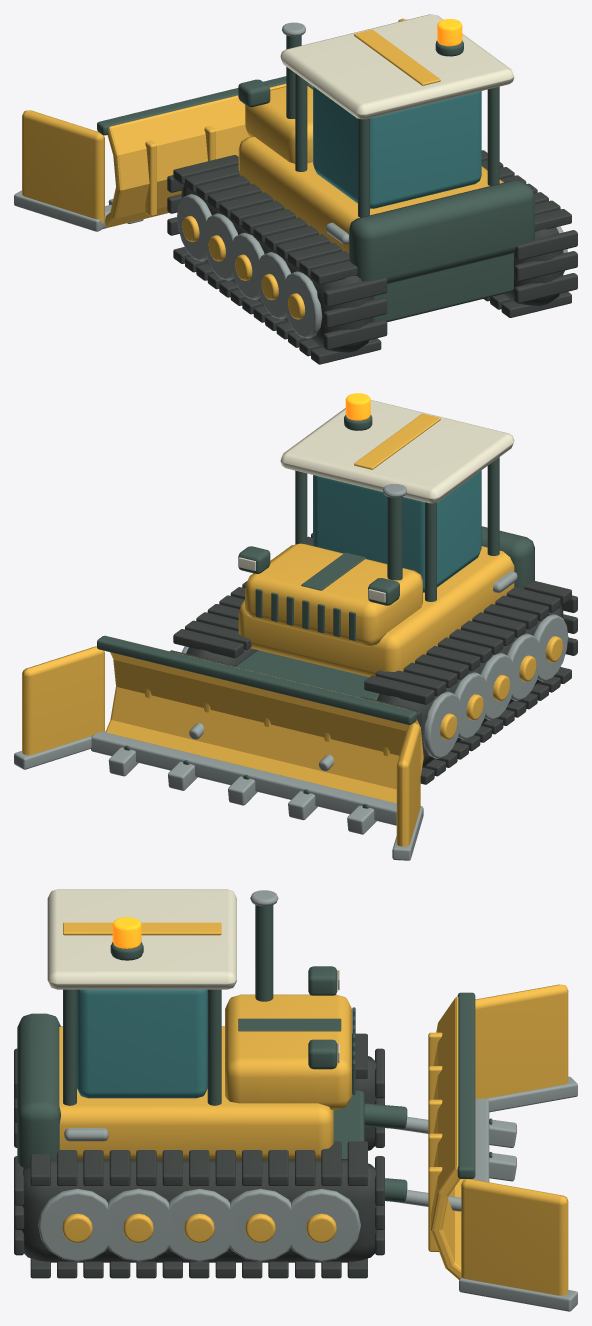
Rendered from gilt-dozer.glb.
3 renders of one model, top to bottom at view 1: azimuth 30°, elevation 25°; view 2: azimuth 150°, elevation 25°; view 3: azimuth 270°, elevation 25°, orthographic. The views are drawn at different scales.
Visible parts, largest first — view 1: Cab glazing, Rear counterweight, Floating canopy, Rolled concave blade, Funnel wing, Lower body, Armoured belly, Engine hood, Track belt, Road wheel, Canopy stripe, Road wheel.004 (+35 smaller); view 2: Rolled concave blade, Floating canopy, Cab glazing, Lower body, Engine hood, Funnel wing.001, Replaceable cutting edge, Blade top rail, Armoured belly, Funnel wing, Road wheel.004, Rear counterweight (+34 smaller); view 3: Floating canopy, Cab glazing, Lower body, Engine hood, Funnel wing.001, Funnel wing, Track belt.001, Rear counterweight, Rolled concave blade, Road wheel.005, Road wheel.009, Road wheel.007 (+41 smaller).
Boxes of the visible parts, x1=… form: Cab glazing: x1=313, y1=86, x2=481, y2=208; Rear counterweight: x1=349, y1=180, x2=534, y2=283; Floating canopy: x1=280, y1=14, x2=514, y2=119; Rolled concave blade: x1=105, y1=83, x2=286, y2=227; Funnel wing: x1=22, y1=110, x2=104, y2=224; Lower body: x1=238, y1=136, x2=503, y2=253; Armoured belly: x1=372, y1=253, x2=513, y2=322; Engine hood: x1=245, y1=86, x2=312, y2=163; Track belt: x1=181, y1=183, x2=372, y2=352; Road wheel: x1=285, y1=271, x2=322, y2=338; Canopy stripe: x1=354, y1=29, x2=440, y2=85; Road wheel.004: x1=177, y1=194, x2=211, y2=261; Rolled concave blade: x1=105, y1=637, x2=423, y2=803; Floating canopy: x1=280, y1=400, x2=514, y2=503; Cab glazing: x1=313, y1=470, x2=481, y2=592; Lower body: x1=238, y1=546, x2=514, y2=677; Engine hood: x1=245, y1=543, x2=422, y2=646; Funnel wing.001: x1=22, y1=646, x2=104, y2=755; Replaceable cutting edge: x1=91, y1=731, x2=396, y2=825; Blade top rail: x1=97, y1=635, x2=416, y2=724; Armoured belly: x1=234, y1=650, x2=379, y2=699; Funnel wing: x1=396, y1=723, x2=420, y2=846; Road wheel.004: x1=423, y1=691, x2=461, y2=758; Rear counterweight: x1=481, y1=526, x2=534, y2=589; Floating canopy: x1=47, y1=889, x2=236, y2=989; Cab glazing: x1=77, y1=989, x2=207, y2=1098; Lower body: x1=59, y1=1026, x2=333, y2=1159; Engine hood: x1=225, y1=994, x2=351, y2=1109; Funnel wing.001: x1=461, y1=1179, x2=568, y2=1295; Funnel wing: x1=475, y1=984, x2=568, y2=1099; Track belt.001: x1=21, y1=1159, x2=377, y2=1262; Rear counterweight: x1=17, y1=1013, x2=60, y2=1167; Rolled concave blade: x1=431, y1=996, x2=466, y2=1279; Road wheel.005: x1=38, y1=1188, x2=113, y2=1261; Road wheel.009: x1=285, y1=1188, x2=360, y2=1261; Road wheel.007: x1=163, y1=1188, x2=235, y2=1261.
Size of the model in its own units: 4.16 by 2.74 by 4.44.
